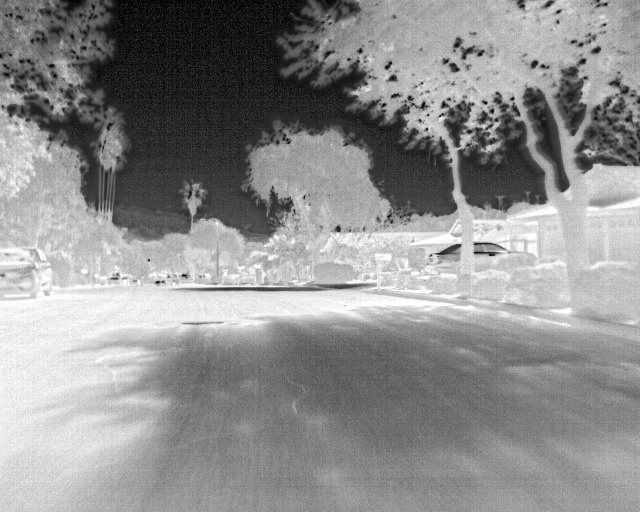vehicle: (1, 246, 54, 305), (430, 241, 514, 264)
